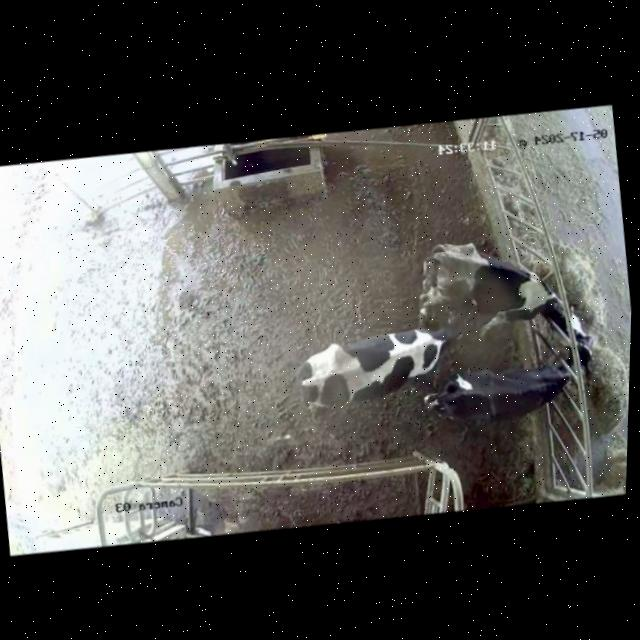eat: (508, 282, 604, 355), (522, 337, 613, 413)
stand: (281, 304, 489, 420)
